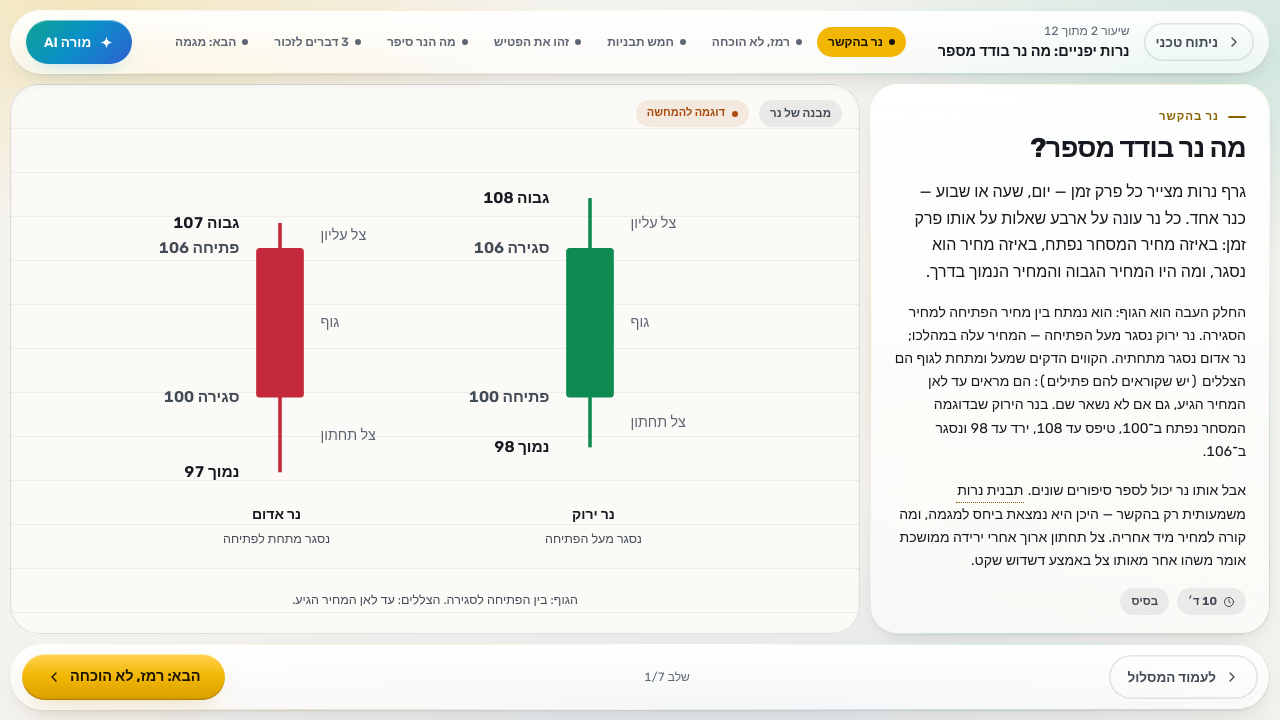
Test: Technical Analysis 2–5 in the lesson workspace › T2: after the Try step, Apply asks about a new chart — and explains either way
Click the button "זהו את הפטיש". click: {"x": 537, "y": 42}
box: [483,27,592,57]
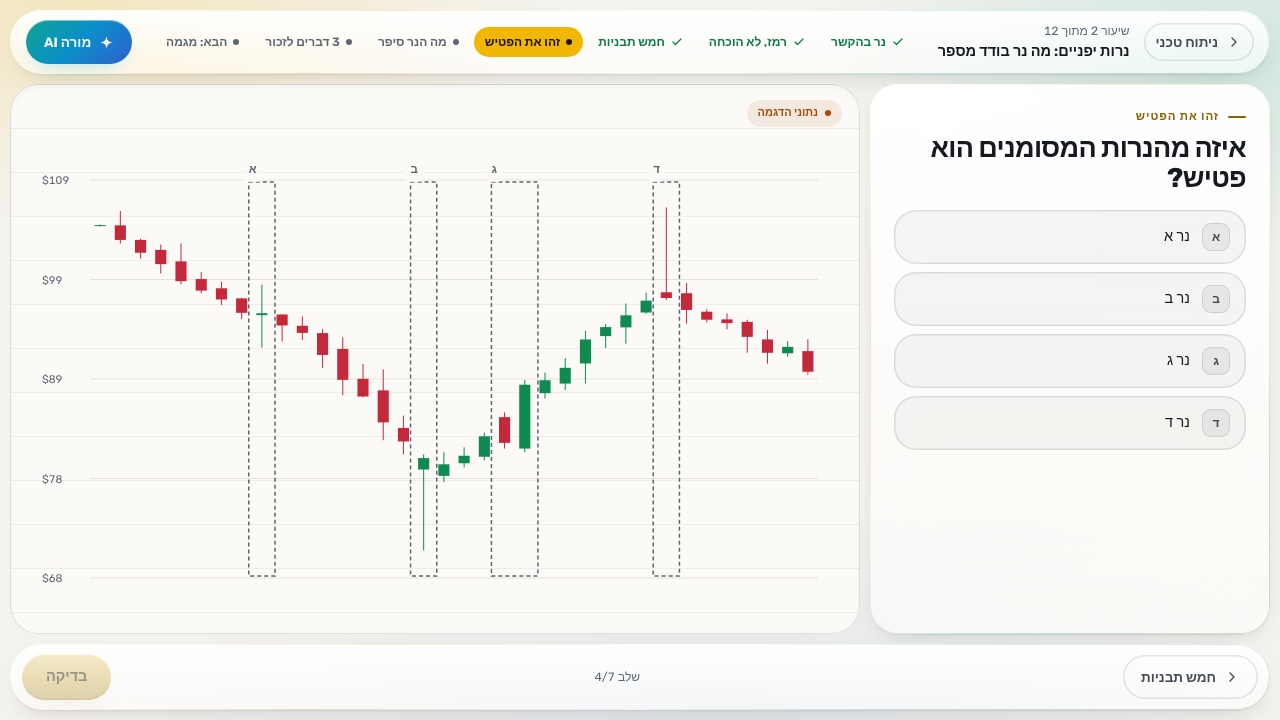
Click the radio button labelled "ב נר ב". click: {"x": 1216, "y": 299}
box: [894,272,1246,326]
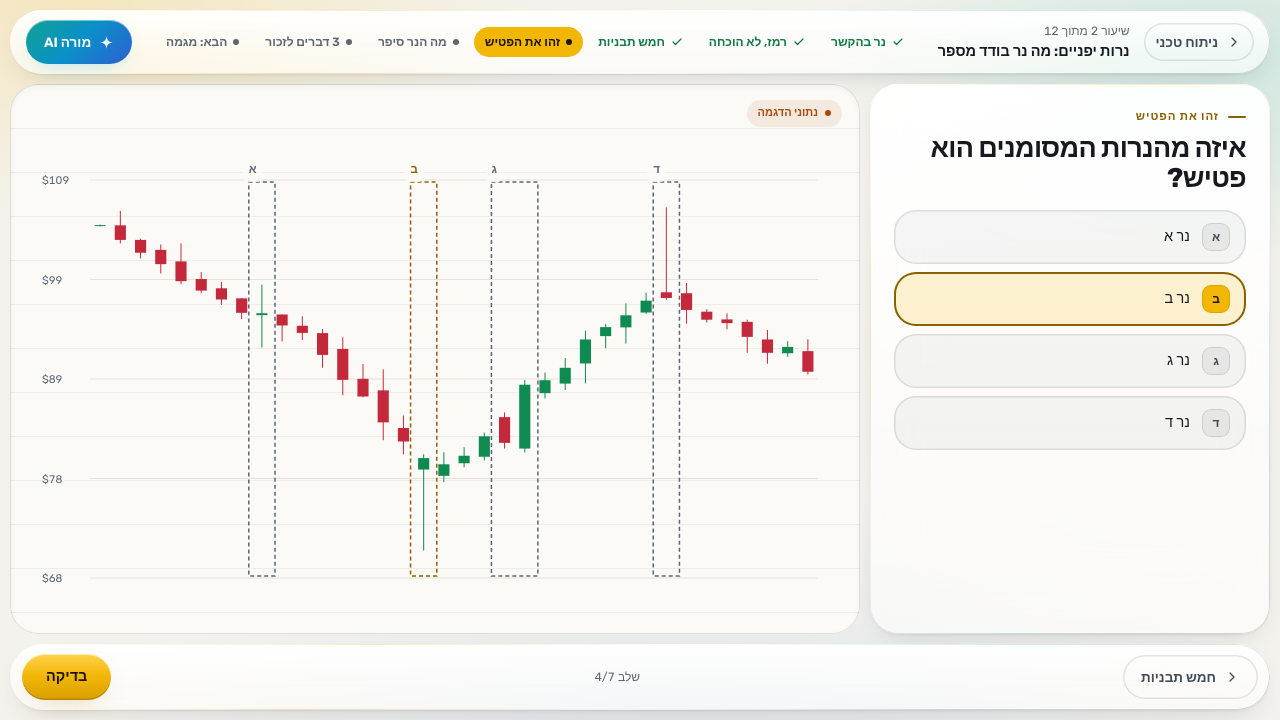
Click the button "בדיקה". click: {"x": 67, "y": 677}
box: [22,654,111,700]
(page scrolled)
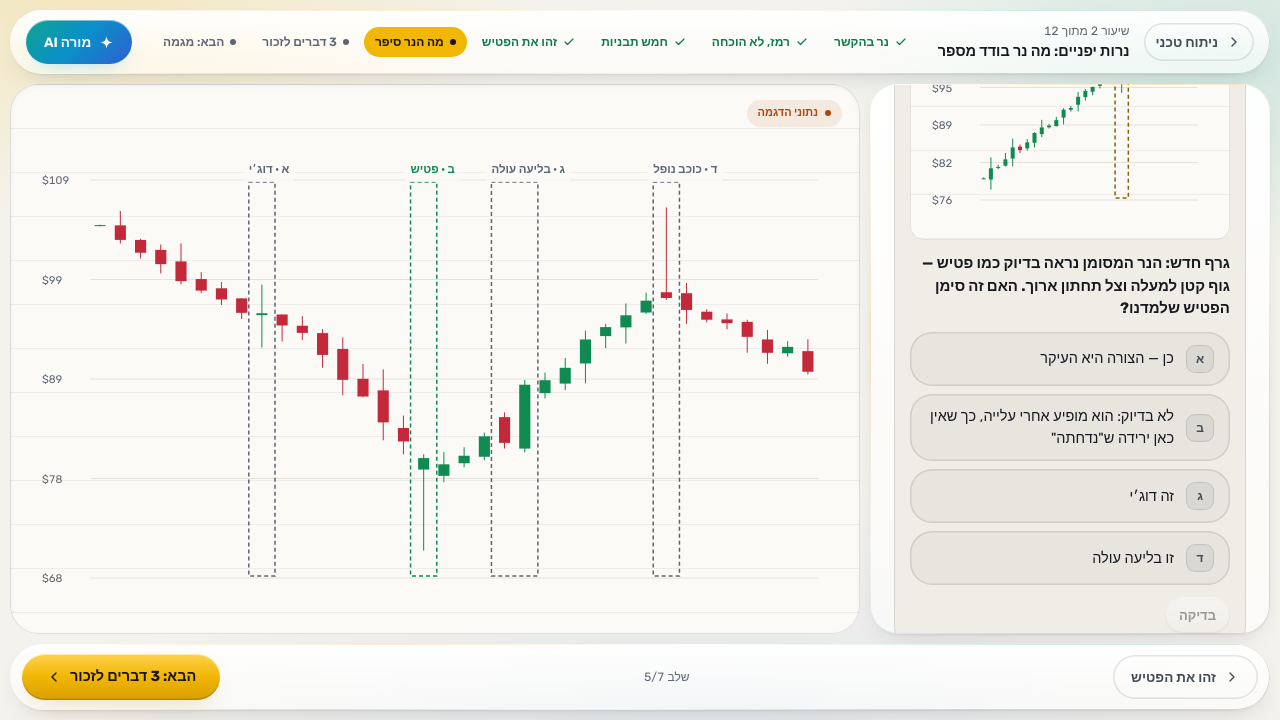
Click the radio button labelled "א כן — הצורה היא העיקר". click: {"x": 1070, "y": 359}
box: [910,332,1230,386]
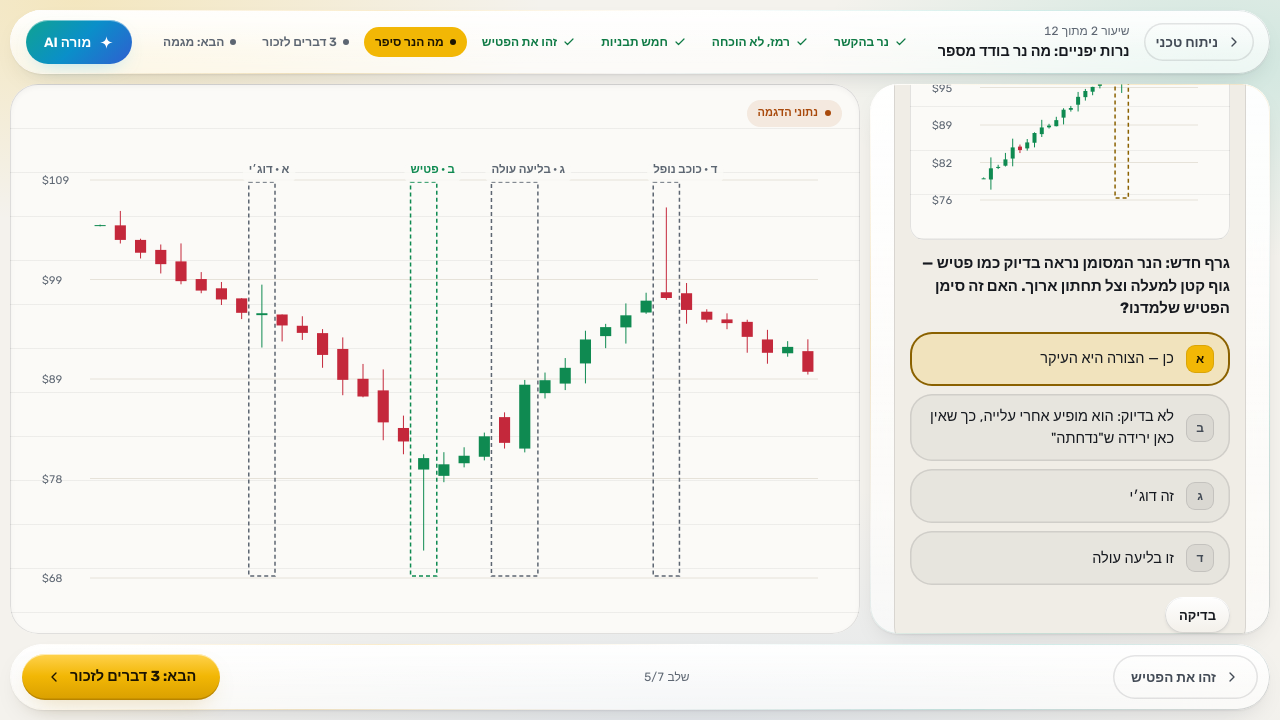
Click the button "בדיקה". click: {"x": 1197, "y": 616}
box: [1165,598,1230,634]
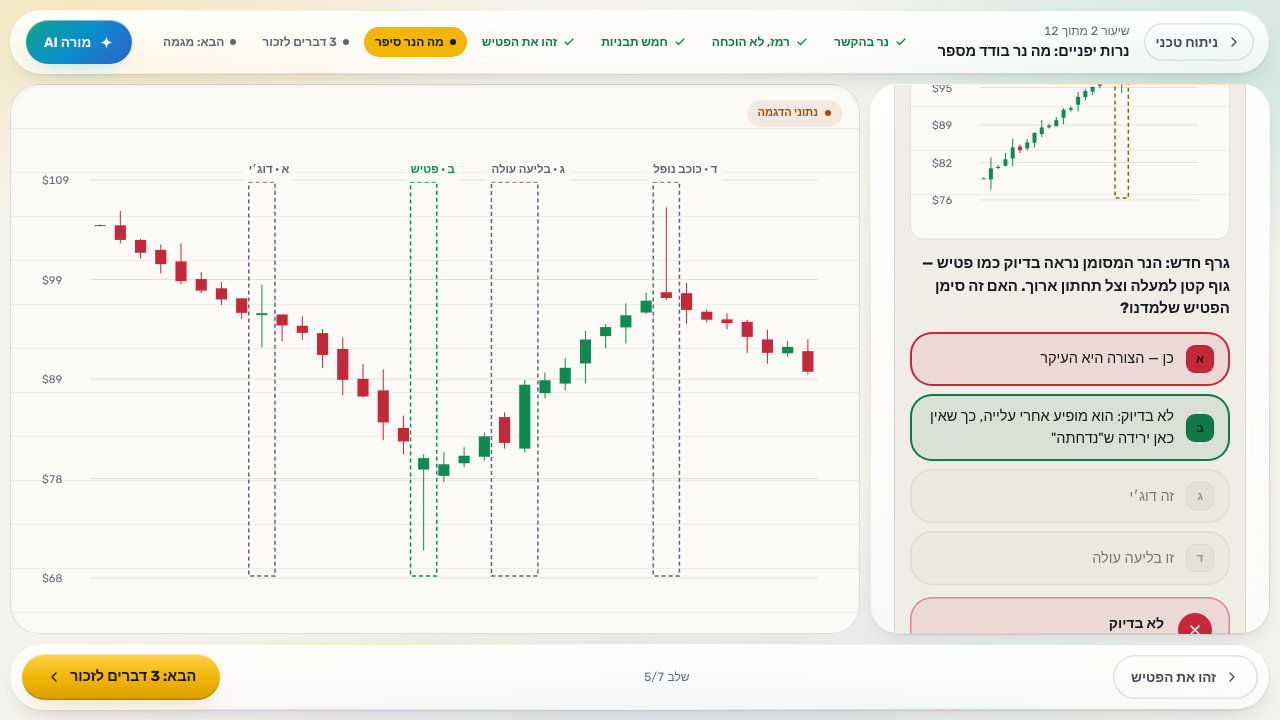
Result: the text "לא בדיוק" is shown at [1109,616,1164,632]
